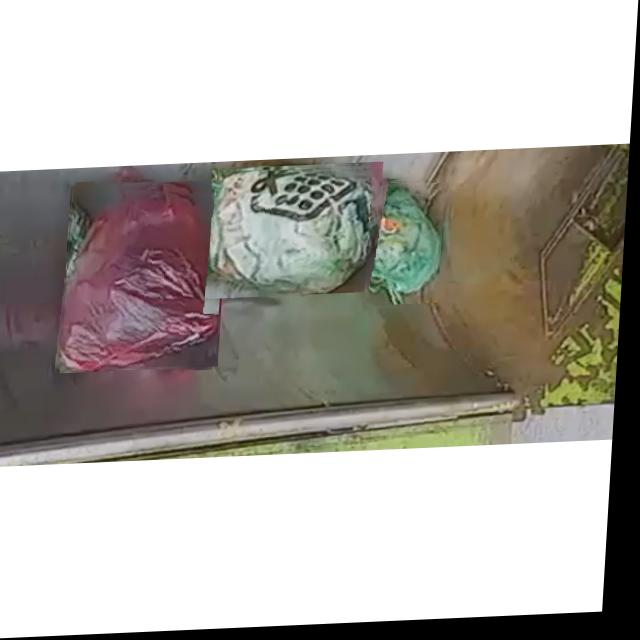general_trashbag: (214, 170, 382, 298), (370, 184, 444, 308)
other_trashbag: (65, 191, 223, 371)
